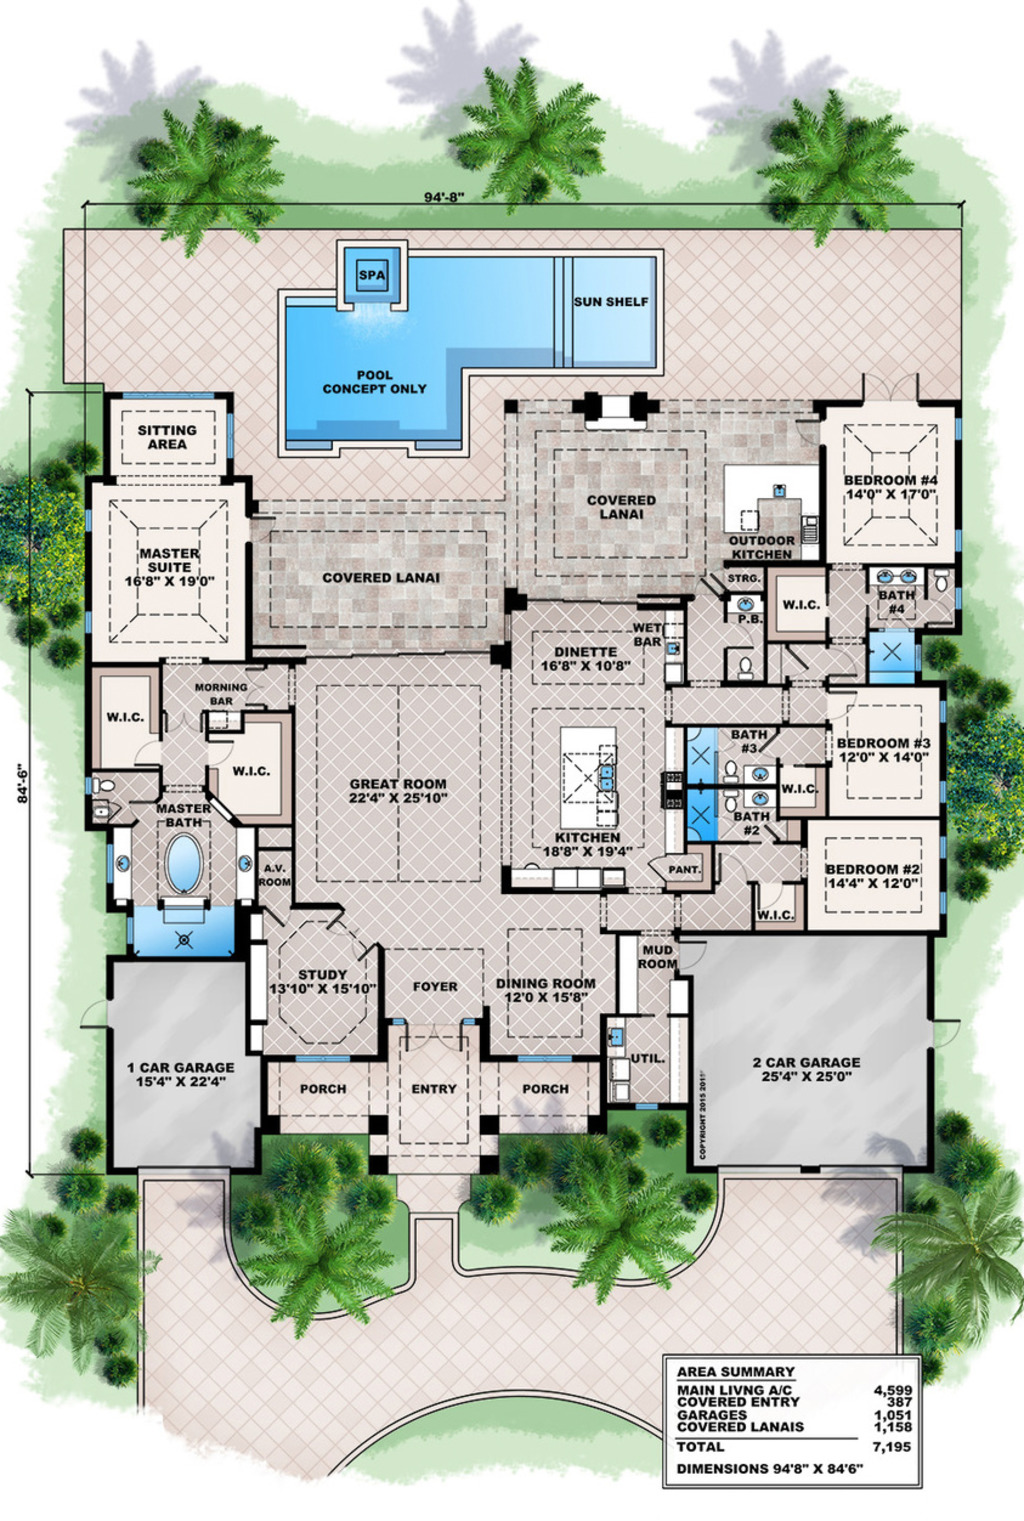door: (400, 1019, 464, 1056), (861, 373, 929, 406), (129, 730, 171, 776), (925, 1010, 961, 1051), (679, 939, 711, 976), (74, 998, 109, 1028)
kitchen_bar: (559, 725, 619, 832)
large_sink: (719, 753, 746, 787), (734, 651, 763, 679)
small_sink: (230, 822, 261, 900), (111, 830, 133, 900)
tub: (155, 822, 214, 895)
